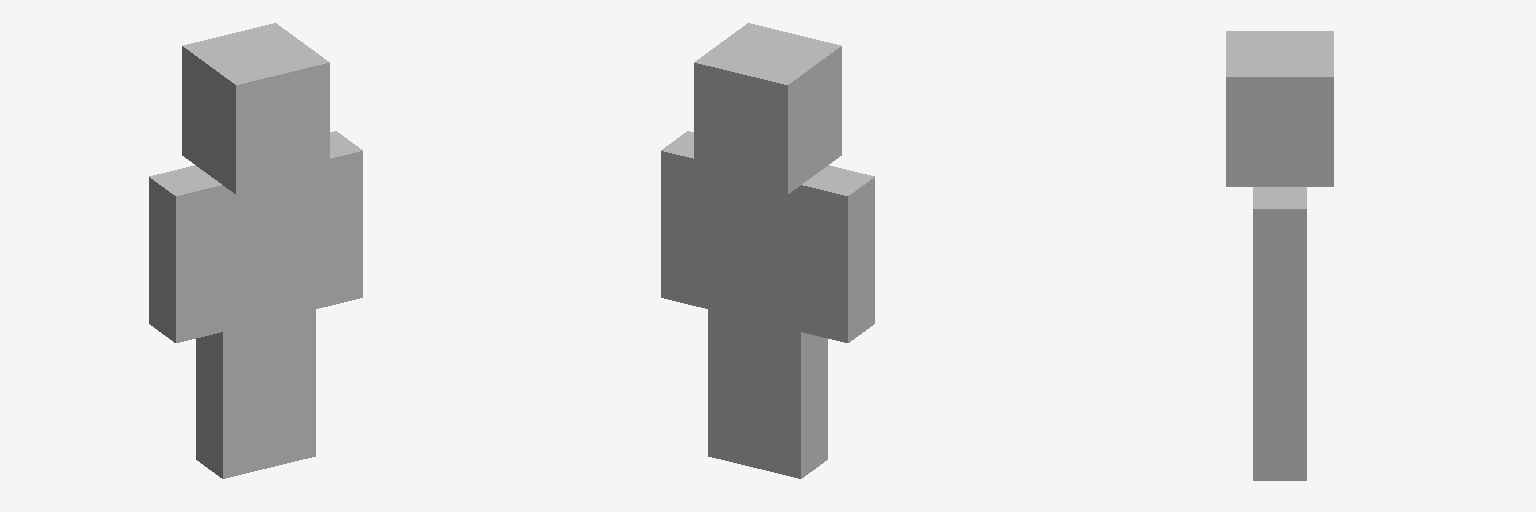
Rendered from player.obj.
3 renders of one model, left to right at view 1: azimuth 30°, elevation 25°; view 2: azimuth 150°, elevation 25°; view 3: azimuth 270°, elevation 25°, orthographic.
Visible parts, largest first — view 1: Head_Cube.003, Torso_Cube, Left_Arm_Cube.001, Left_Leg_Cube.006, Right_Arm_Cube.002, Right_Leg_Cube.005; view 2: Head_Cube.003, Torso_Cube, Left_Arm_Cube.001, Left_Leg_Cube.006, Right_Arm_Cube.002, Right_Leg_Cube.005; view 3: Head_Cube.003, Right_Arm_Cube.002, Right_Leg_Cube.005.
Boxes of the visible parts, x1=… form: Head_Cube.003: x1=182, y1=23, x2=329, y2=194; Torso_Cube: x1=201, y1=169, x2=315, y2=331; Left_Arm_Cube.001: x1=149, y1=165, x2=222, y2=342; Left_Leg_Cube.006: x1=196, y1=321, x2=269, y2=478; Right_Arm_Cube.002: x1=316, y1=131, x2=362, y2=308; Right_Leg_Cube.005: x1=270, y1=309, x2=315, y2=467; Head_Cube.003: x1=694, y1=23, x2=841, y2=194; Torso_Cube: x1=708, y1=169, x2=822, y2=331; Left_Arm_Cube.001: x1=801, y1=165, x2=874, y2=342; Left_Leg_Cube.006: x1=754, y1=321, x2=827, y2=478; Right_Arm_Cube.002: x1=661, y1=131, x2=707, y2=308; Right_Leg_Cube.005: x1=708, y1=309, x2=753, y2=467; Head_Cube.003: x1=1226, y1=31, x2=1333, y2=186; Right_Arm_Cube.002: x1=1253, y1=187, x2=1306, y2=356; Right_Leg_Cube.005: x1=1253, y1=357, x2=1306, y2=480.
Size of the model in its own units: 0.9376 by 1.93 by 0.4687.